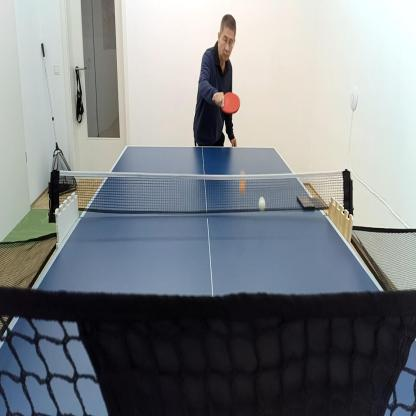Ball: (239, 170, 247, 194), (258, 196, 266, 213)
